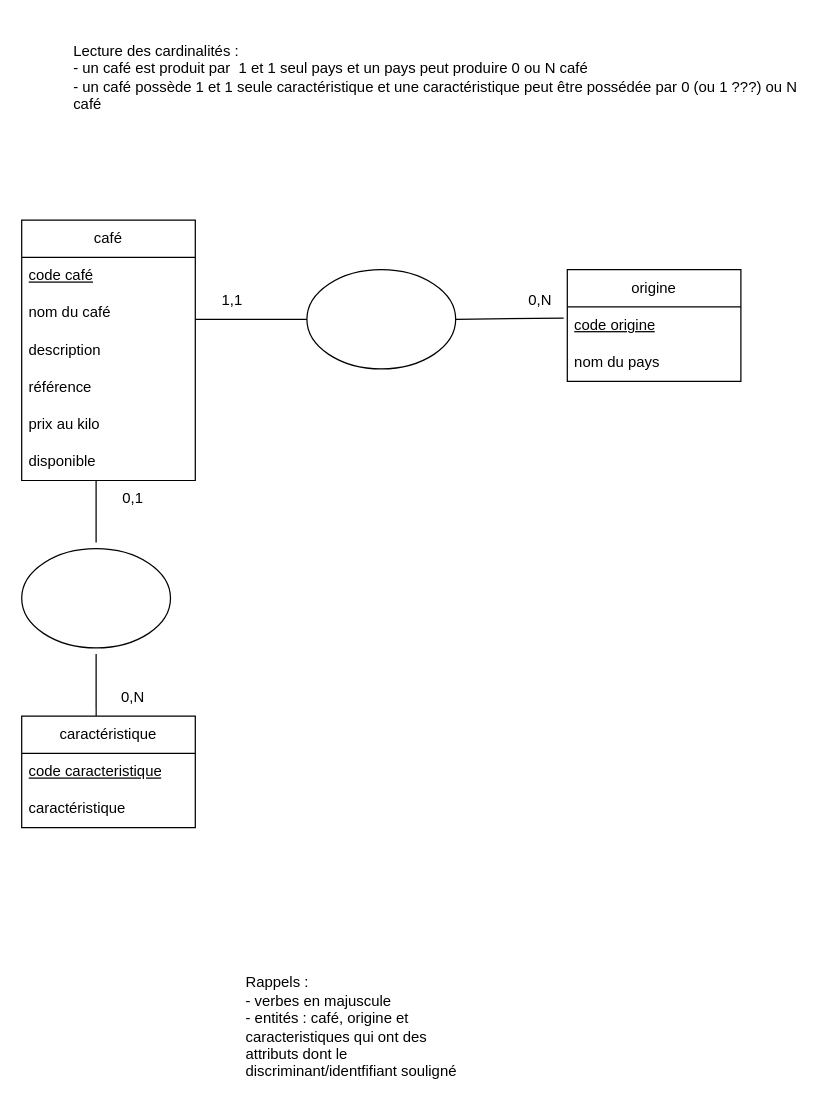
This 837x1109 diagram has some shape labels left out. Each missing label, with the centre of its shape:
"POSSEDER" belongs at (95,597).
"PRODUIRE" belongs at (381,318).
